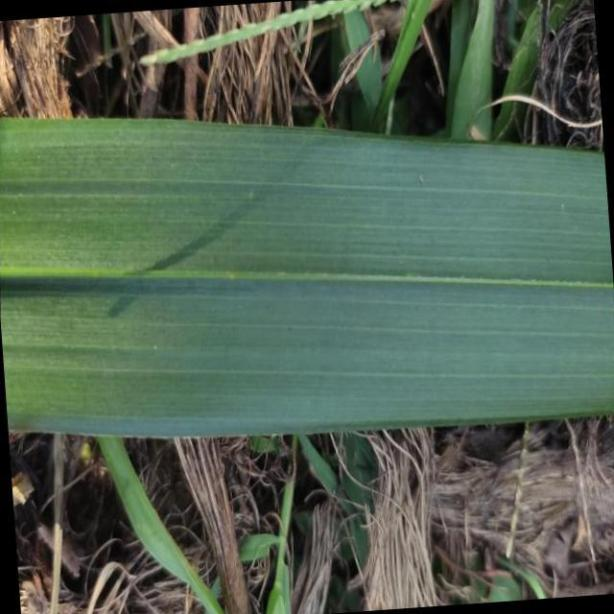Healthy: (0, 121, 614, 435)
